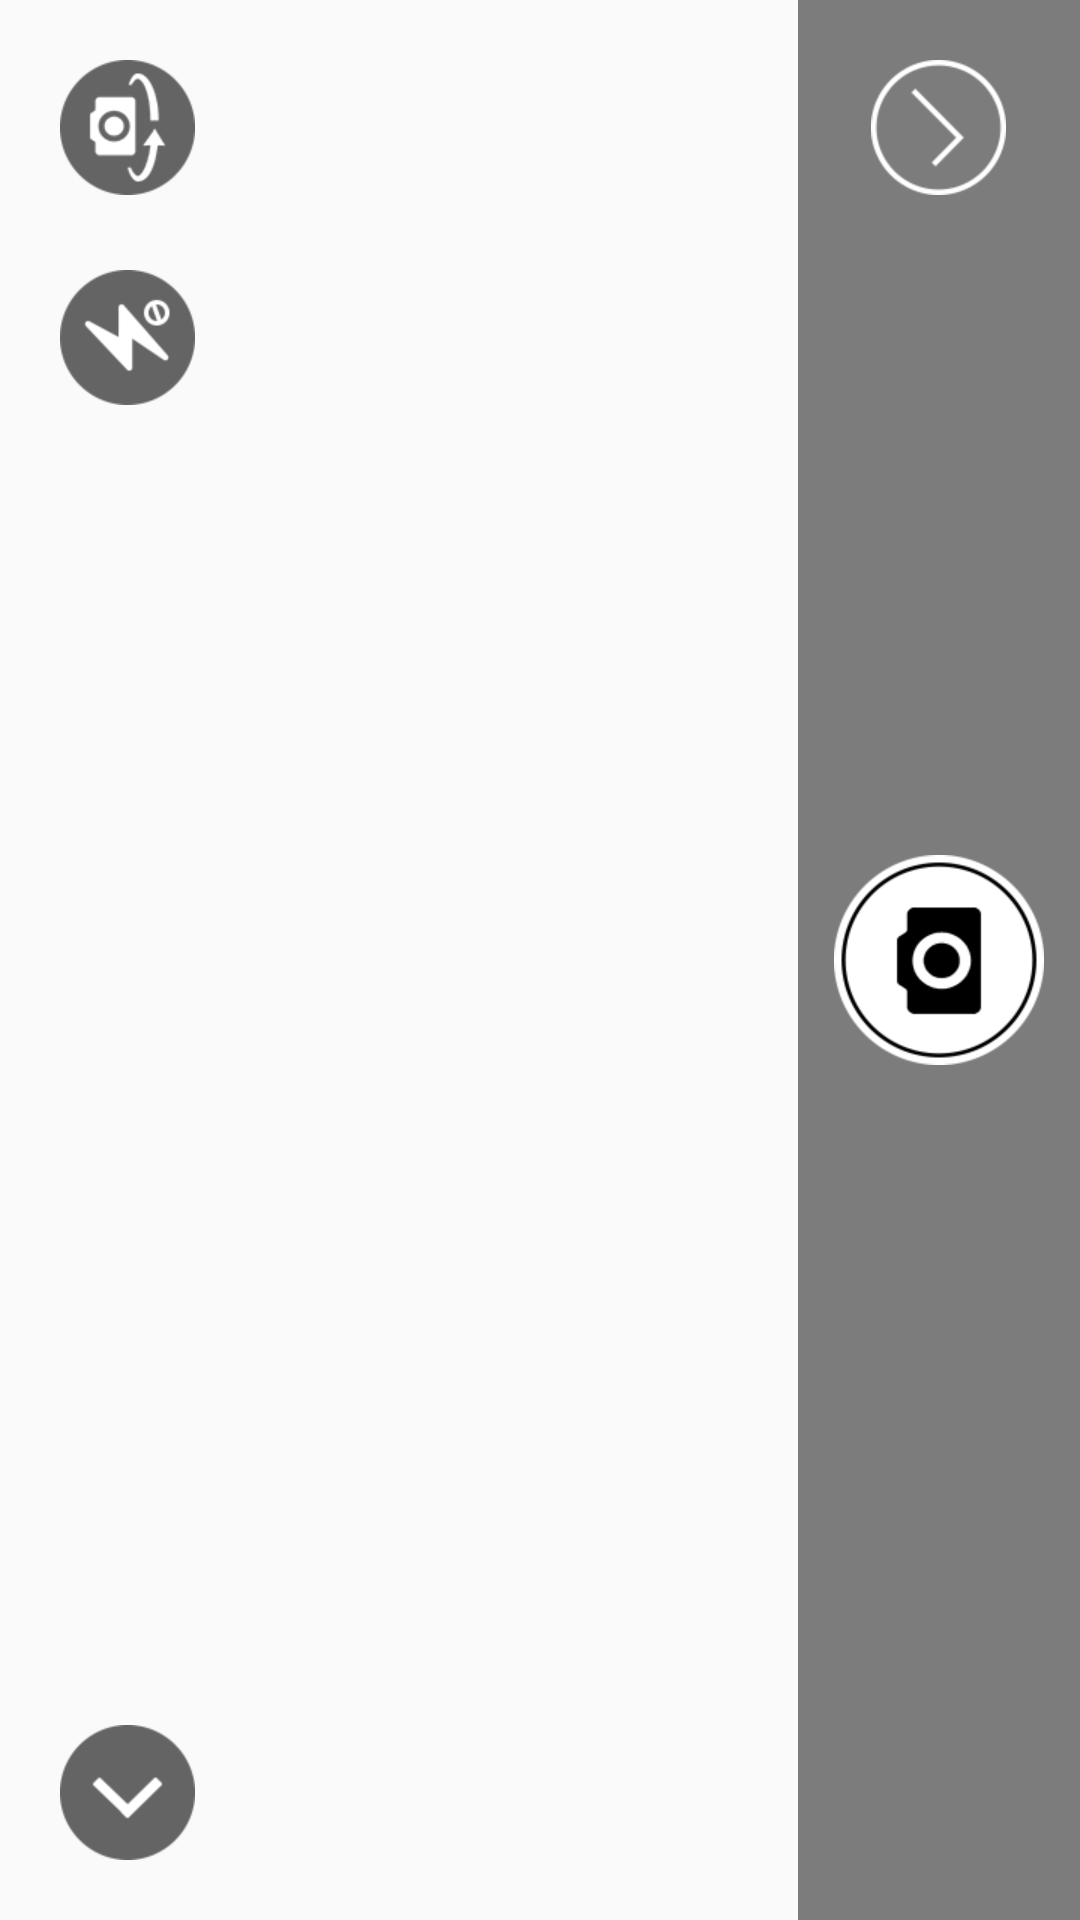

Icons on this 1080 x 1920 Android screen, each with the point to tap as (x=x, y=y):
off: (x=127, y=337)
